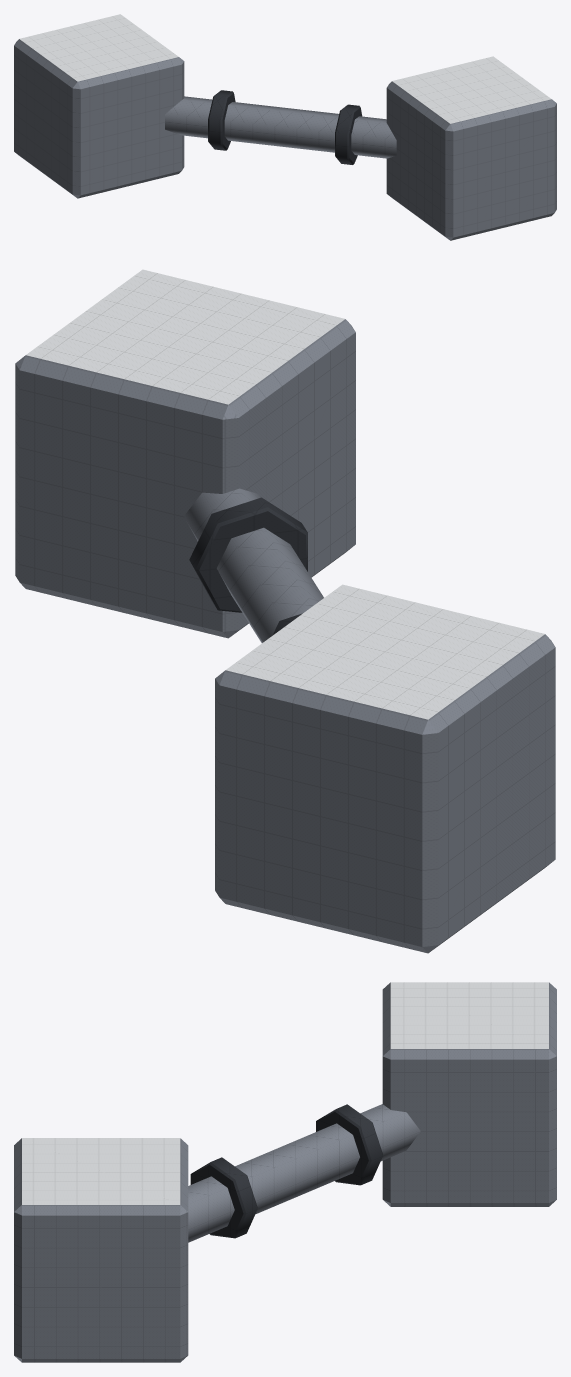
Rendered from R4C_STRUT_DIAG_2D_LOD1.glb.
3 renders of one model, top to bottom at view 1: azimuth 30°, elevation 25°; view 2: azimuth 150°, elevation 25°; view 3: azimuth 270°, elevation 25°, orthographic. The views are drawn at different scales.
Visible parts, largest first — view 1: R4C_STRUT_DIAG_2D_LOD1; view 2: R4C_STRUT_DIAG_2D_LOD1; view 3: R4C_STRUT_DIAG_2D_LOD1.
Boxes of the visible parts, <box> form: R4C_STRUT_DIAG_2D_LOD1: <box>14,14,556,240</box>; R4C_STRUT_DIAG_2D_LOD1: <box>15,269,555,953</box>; R4C_STRUT_DIAG_2D_LOD1: <box>14,982,556,1362</box>.
Size of the model in its own units: 1.62 by 0.52 by 1.62.
Materials: 3 (3 with a texture image).
